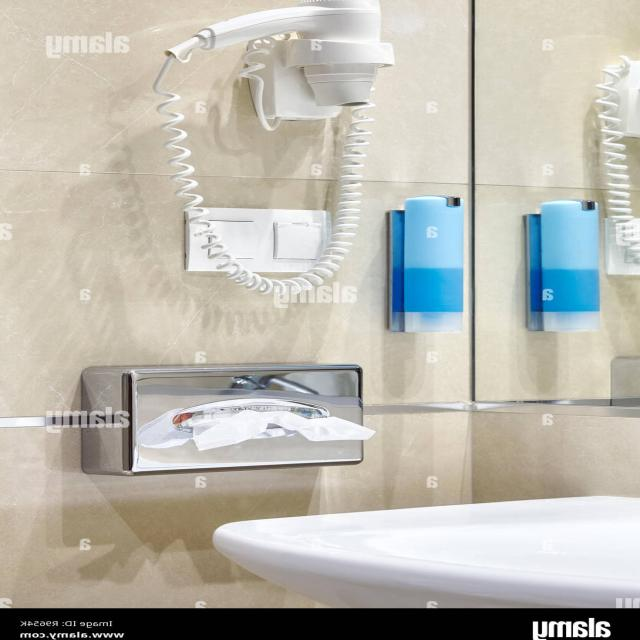dryer: (128, 0, 407, 324), (150, 0, 395, 135)
